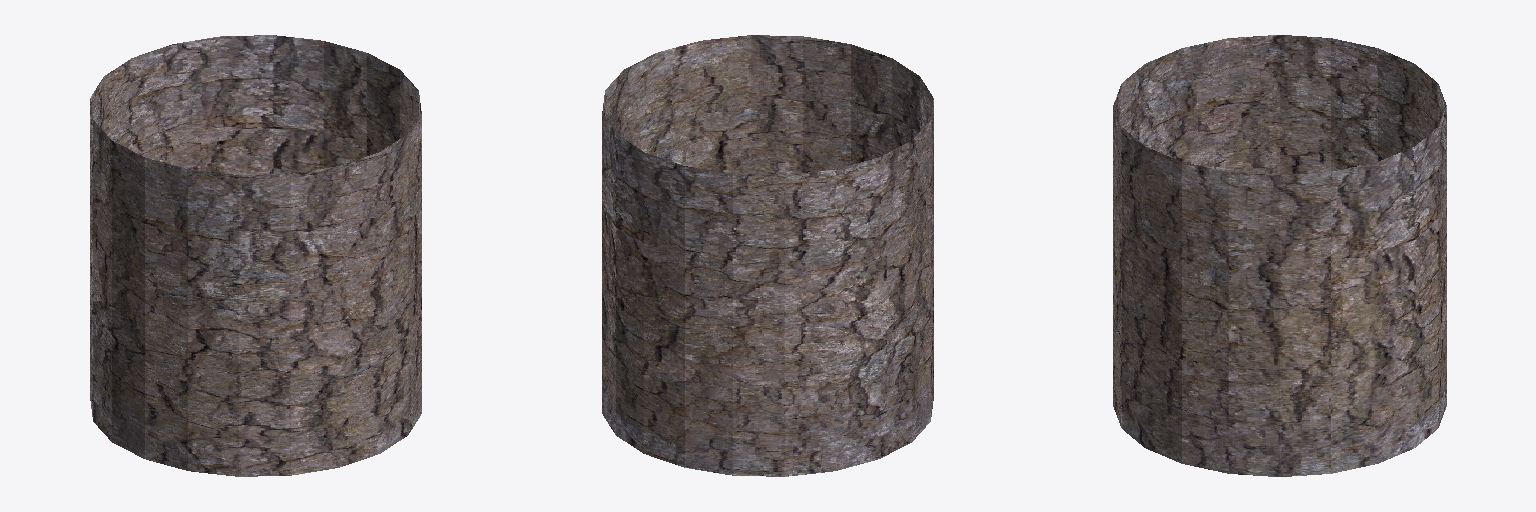
The picture shows the model from 3 angles: view 1: azimuth 30°, elevation 25°; view 2: azimuth 150°, elevation 25°; view 3: azimuth 270°, elevation 25°; orthographic projection.
Parts seen in each view (by area): view 1: pCylinder1; view 2: pCylinder1; view 3: pCylinder1.
Boxes of the visible parts, <box> form: pCylinder1: <box>90,35,421,476</box>; pCylinder1: <box>602,35,933,476</box>; pCylinder1: <box>1113,35,1446,476</box>.
Bounding box in the file's own units: 1 × 1 × 1.
1 materials, 1 textured.